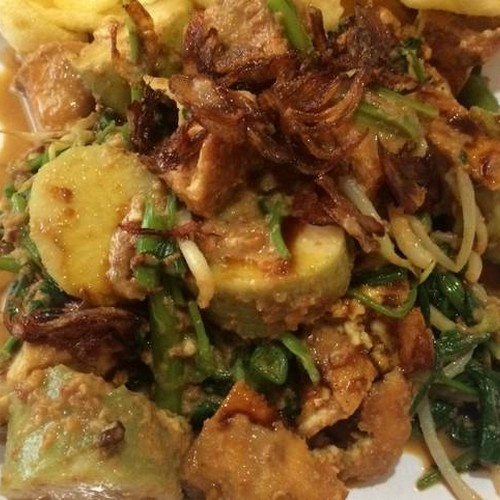tipat cantok: (20, 25, 491, 500)
